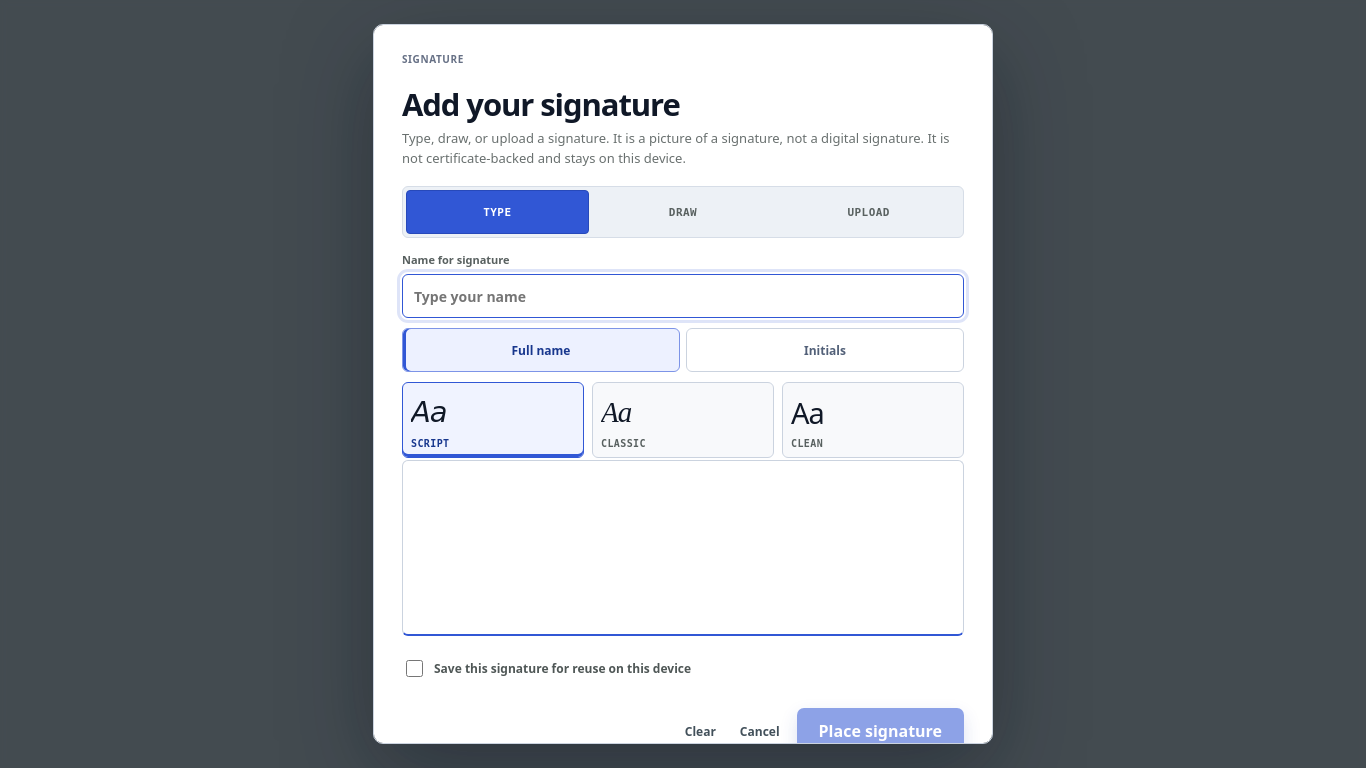
Test: SignatureDialog › labels the canvas and describes what the signature is not
Expected: the drawing named "Signature preview" is shown, [402,460,964,636]
Click the tab "Draw".
click(683, 212)  # box [592,190,774,234]
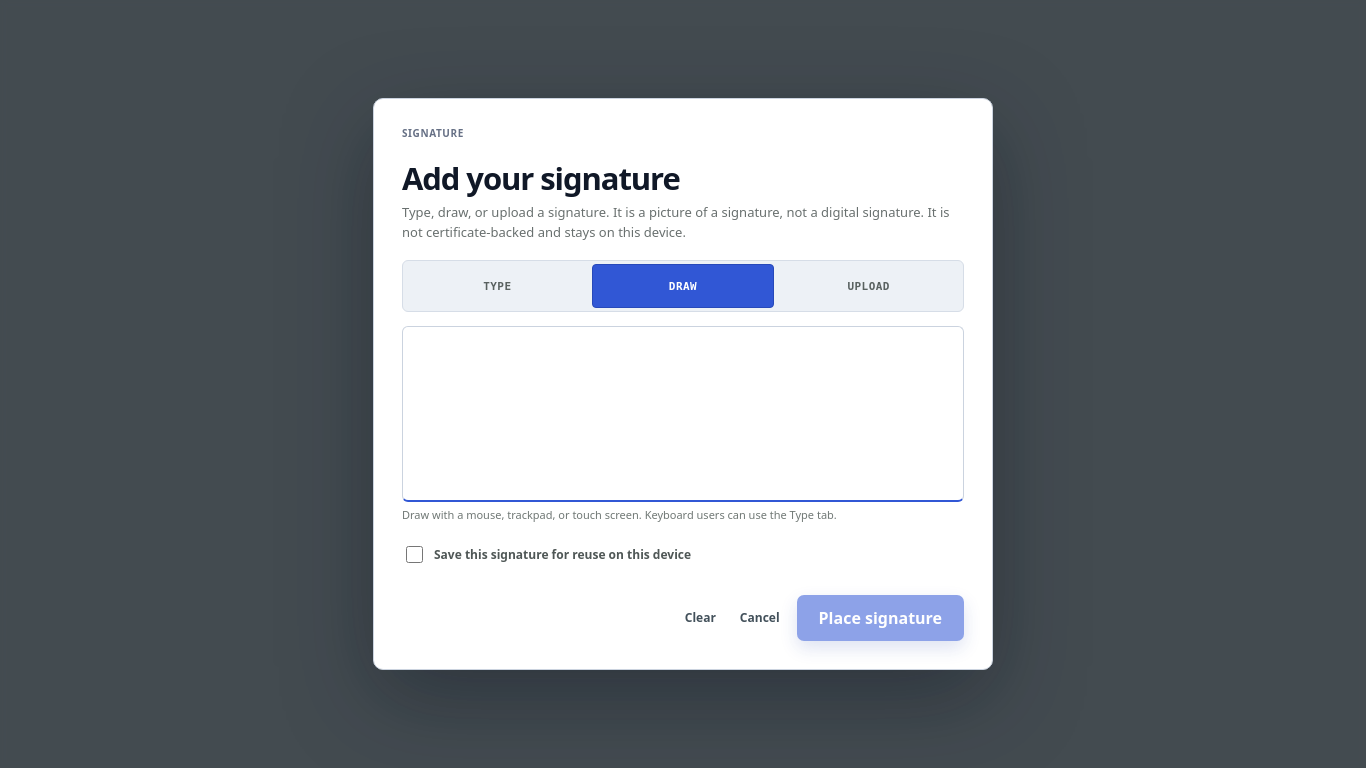
Expected: the text "not certificate-backed" is shown, [402,203,950,241]
Expected: the drawing named "Signature drawing area" is shown, [402,326,964,502]
